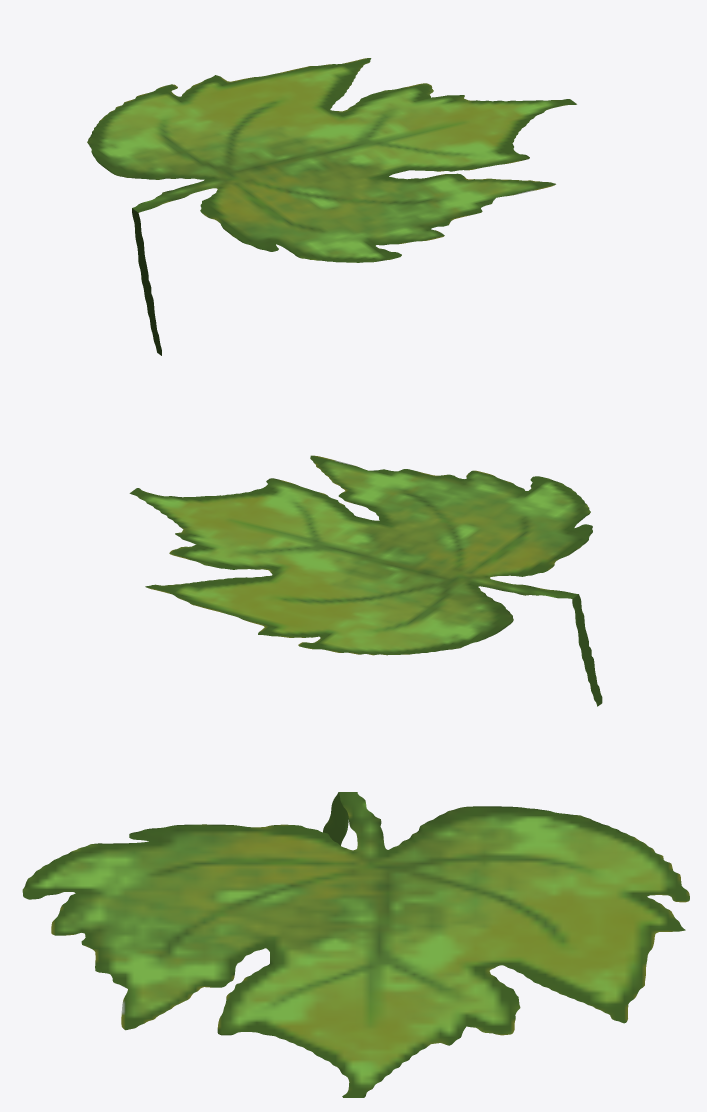
File: IvyLeafMesh01.fbx
3 views of the same model, one above another, from view 1: azimuth 30°, elevation 25°; view 2: azimuth 150°, elevation 25°; view 3: azimuth 270°, elevation 25° (orthographic). The views are drawn at different scales.
Visible parts, largest first — view 1: IvyLeafMesh01; view 2: IvyLeafMesh01; view 3: IvyLeafMesh01.
Part boxes in pixels (x1=…): IvyLeafMesh01: x1=87, y1=58, x2=576, y2=355; IvyLeafMesh01: x1=129, y1=455, x2=602, y2=706; IvyLeafMesh01: x1=22, y1=792, x2=689, y2=1097.
Bounding box in the file's own units: 433 × 119 × 407.
Materials: 1 (1 with a texture image).
